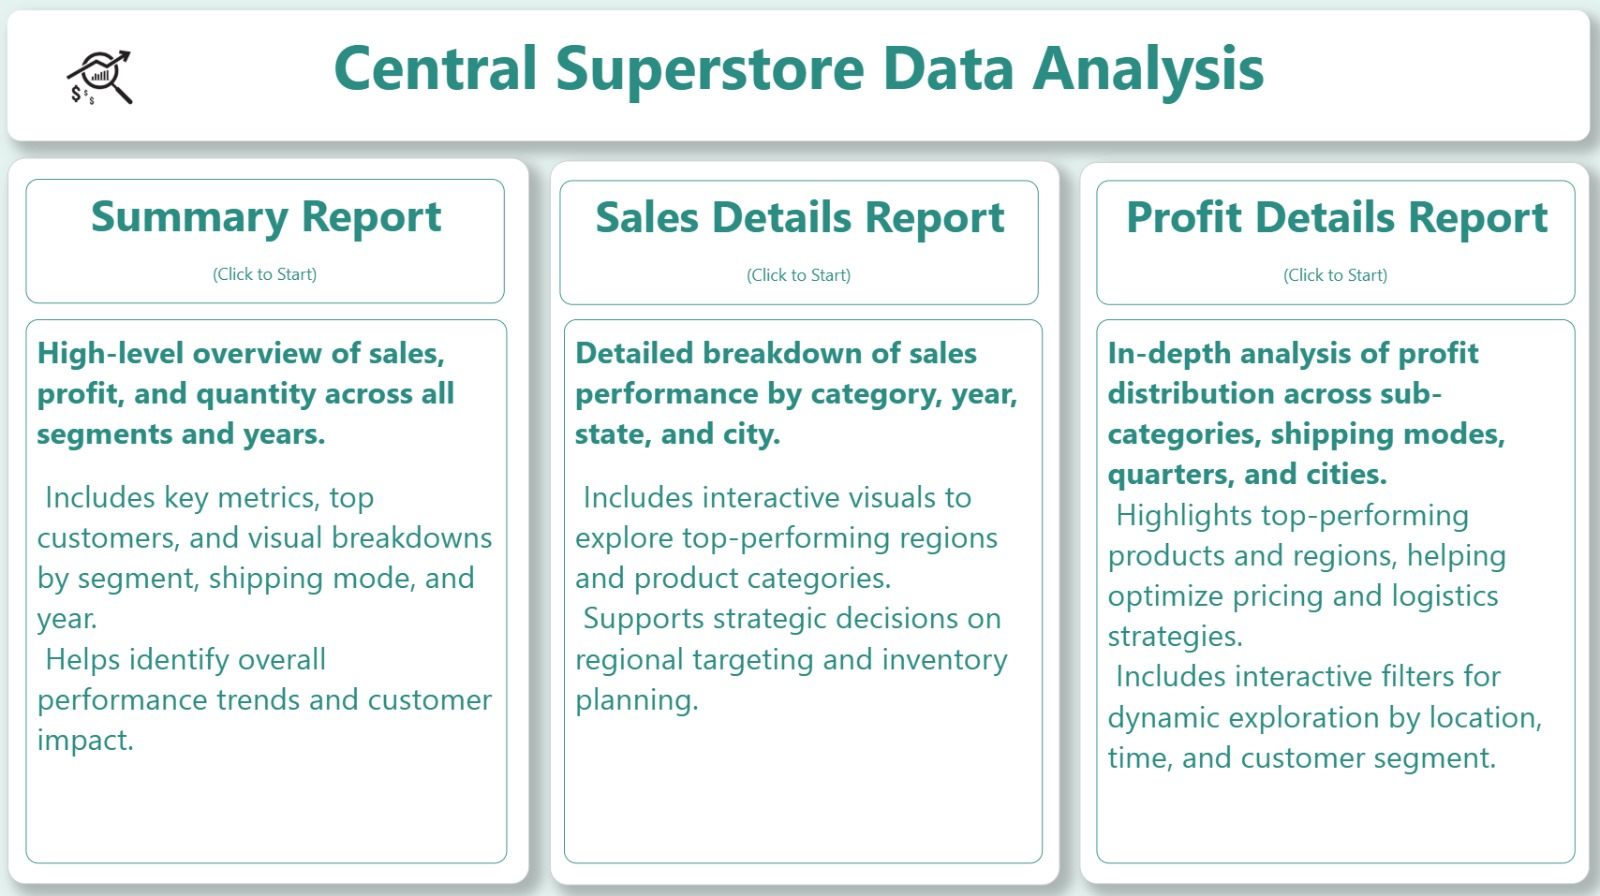

Layout of this report page (visuals, bound fields, positions):
{"tool":"powerbi","page":{"name":"Overview","canvas":[1280,720],"ordinal":0},"visuals":[{"type":"textbox","box":[13,11.3,1251.7,103.6],"z":0},{"type":"image","box":[0,0,171.6,127.9],"z":1000},{"type":"shape","box":[13,127.9,412.9,574.8],"z":2000},{"type":"shape","box":[442,129.5,403.2,573.2],"z":3000},{"type":"shape","box":[861.4,131.2,403.2,571.6],"z":4000},{"type":"textbox","title":"Summary Report (Click to Start)","box":[27.5,255.8,380.5,430.7],"z":5000},{"type":"textbox","box":[453.4,255.8,378.9,430.7],"z":6000},{"type":"textbox","box":[874.4,255.8,378.9,430.7],"z":7000},{"type":"actionButton","title":"Summary Report","box":[27.5,144.1,378.9,98.8],"z":8000},{"type":"actionButton","title":"Sales Details Report","box":[450.1,145.7,378.9,98.8],"z":9000},{"type":"actionButton","title":"Profit Details Report","box":[874.4,145.7,378.9,98.8],"z":9001}]}

Visuals, with their boxes in screenshot pixels (x1, y1, x2, y2), scaled from the page's 1280x720 canvas onto the 1600x896 screenshot:
textbox: Rect(16, 14, 1581, 143)
image: Rect(0, 0, 214, 159)
shape: Rect(16, 159, 532, 874)
shape: Rect(552, 161, 1056, 874)
shape: Rect(1077, 163, 1581, 875)
"Summary Report (Click to Start)" textbox: Rect(34, 318, 510, 854)
textbox: Rect(567, 318, 1040, 854)
textbox: Rect(1093, 318, 1567, 854)
"Summary Report" actionButton: Rect(34, 179, 508, 302)
"Sales Details Report" actionButton: Rect(563, 181, 1036, 304)
"Profit Details Report" actionButton: Rect(1093, 181, 1567, 304)
